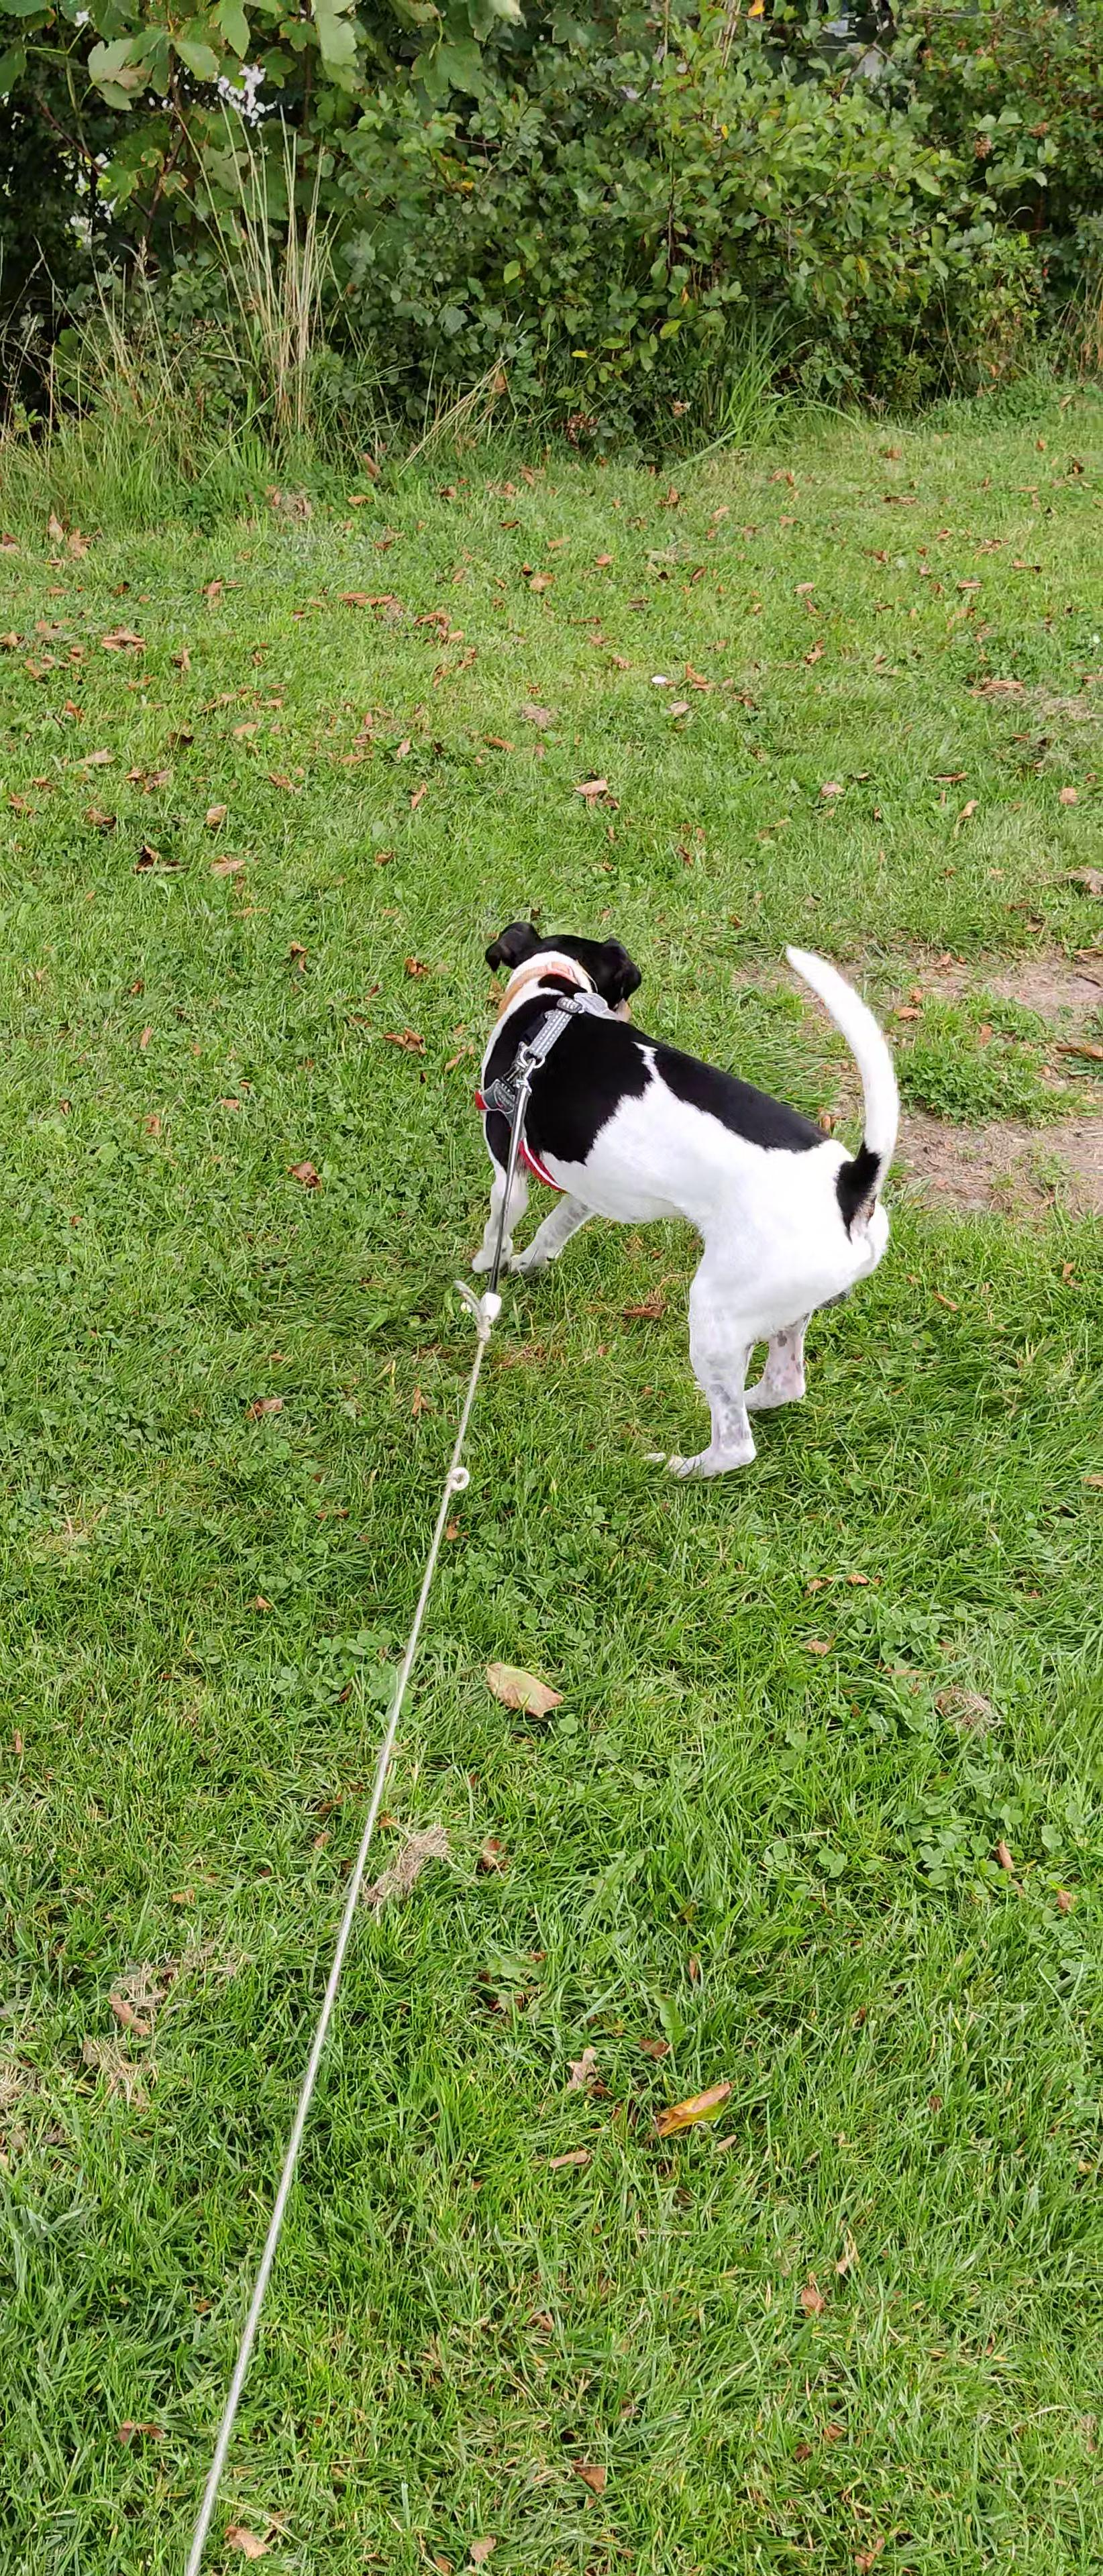Dog: (465, 913, 907, 1490)
